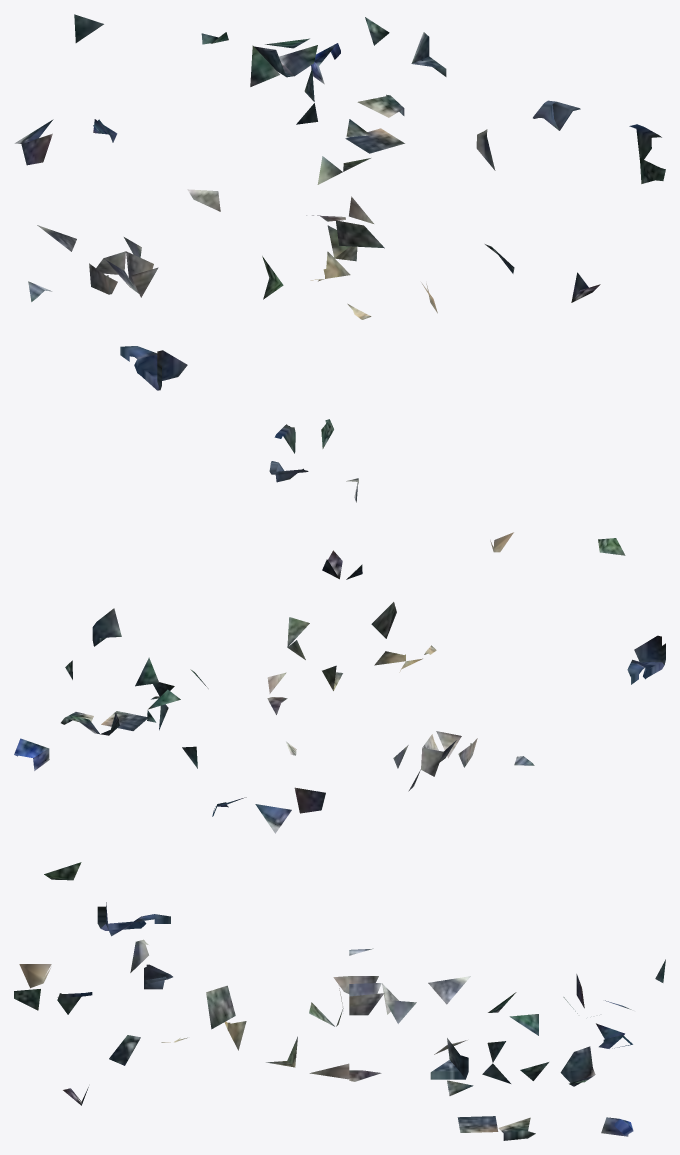
3 views of the same model, one above another, from view 1: azimuth 30°, elevation 25°; view 2: azimuth 150°, elevation 25°; view 3: azimuth 270°, elevation 25° (orthographic). The views are drawn at different scales.
Parts seen in each view (by area): view 1: 30436272704361514420_1; view 2: 30436272704361514420_1; view 3: 30436272704361514420_1.
Boxes of the visible parts, left/top/right/bottom form: 30436272704361514420_1: left=14, top=14, right=665, bottom=390; 30436272704361514420_1: left=14, top=419, right=665, bottom=833; 30436272704361514420_1: left=14, top=862, right=665, bottom=1140.
Size of the model in its own units: 27.47 by 10.64 by 37.17.
Materials: 1 (1 with a texture image).
